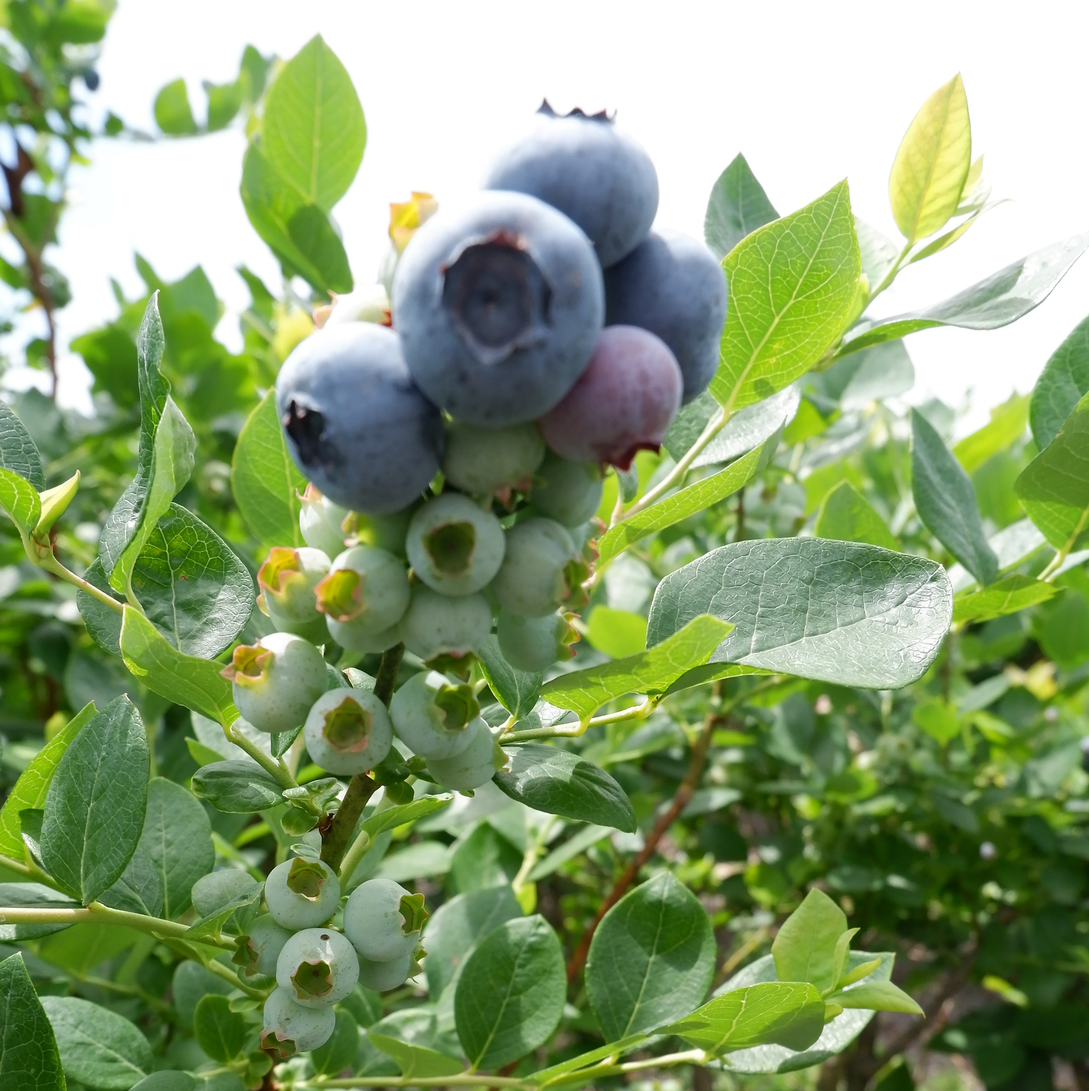Immature: (540, 329, 676, 469), (223, 633, 328, 733), (407, 495, 500, 594), (489, 520, 578, 618), (443, 420, 542, 502), (315, 547, 406, 634), (306, 687, 389, 775), (389, 675, 475, 759), (400, 583, 490, 662), (344, 880, 422, 962), (428, 717, 505, 794), (279, 932, 357, 1007), (260, 548, 329, 632), (528, 447, 601, 526), (266, 859, 338, 929), (264, 987, 334, 1057), (498, 610, 579, 670), (230, 916, 294, 976), (300, 485, 349, 558), (359, 942, 420, 991), (318, 285, 391, 325), (324, 613, 398, 652)
Mature: (397, 199, 597, 419), (277, 319, 441, 509), (487, 112, 656, 261), (604, 230, 723, 398)
